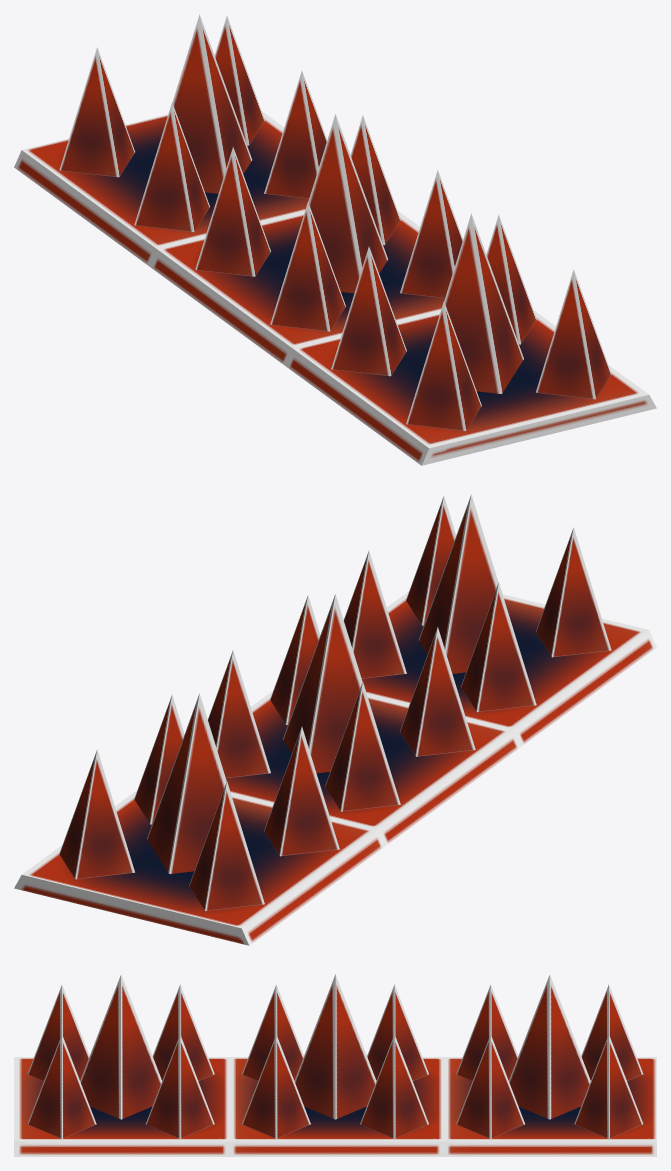
Rendered from MG-ChJ-CS-10JianCi-3.FBX.
3 renders of one model, top to bottom at view 1: azimuth 30°, elevation 25°; view 2: azimuth 150°, elevation 25°; view 3: azimuth 270°, elevation 25°, orthographic. The views are drawn at different scales.
Visible parts, largest first — view 1: MG-ChJ-CS-10JianCi-3; view 2: MG-ChJ-CS-10JianCi-3; view 3: MG-ChJ-CS-10JianCi-3.
Boxes of the visible parts, x1,y1,x2,y2 form: MG-ChJ-CS-10JianCi-3: [14, 14, 656, 465]; MG-ChJ-CS-10JianCi-3: [14, 494, 656, 945]; MG-ChJ-CS-10JianCi-3: [14, 974, 656, 1156].
Bounding box in the file's own units: 39.37 × 27.87 × 118.
